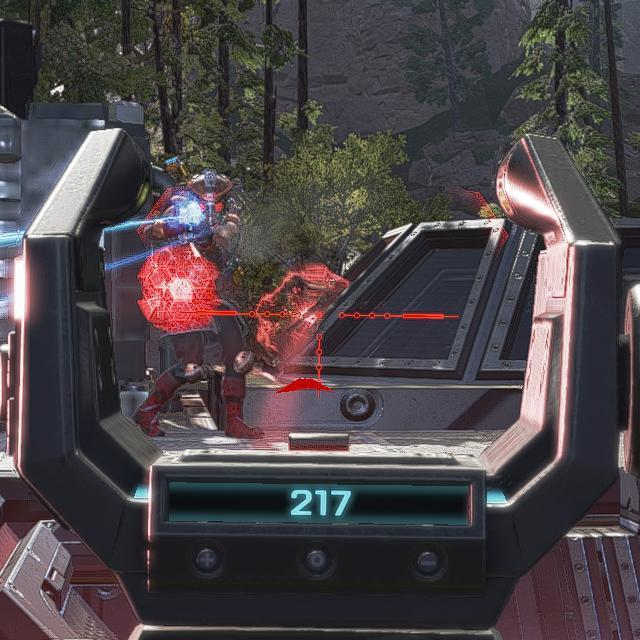avatar: (130, 154, 263, 442)
object: (137, 244, 219, 334)
